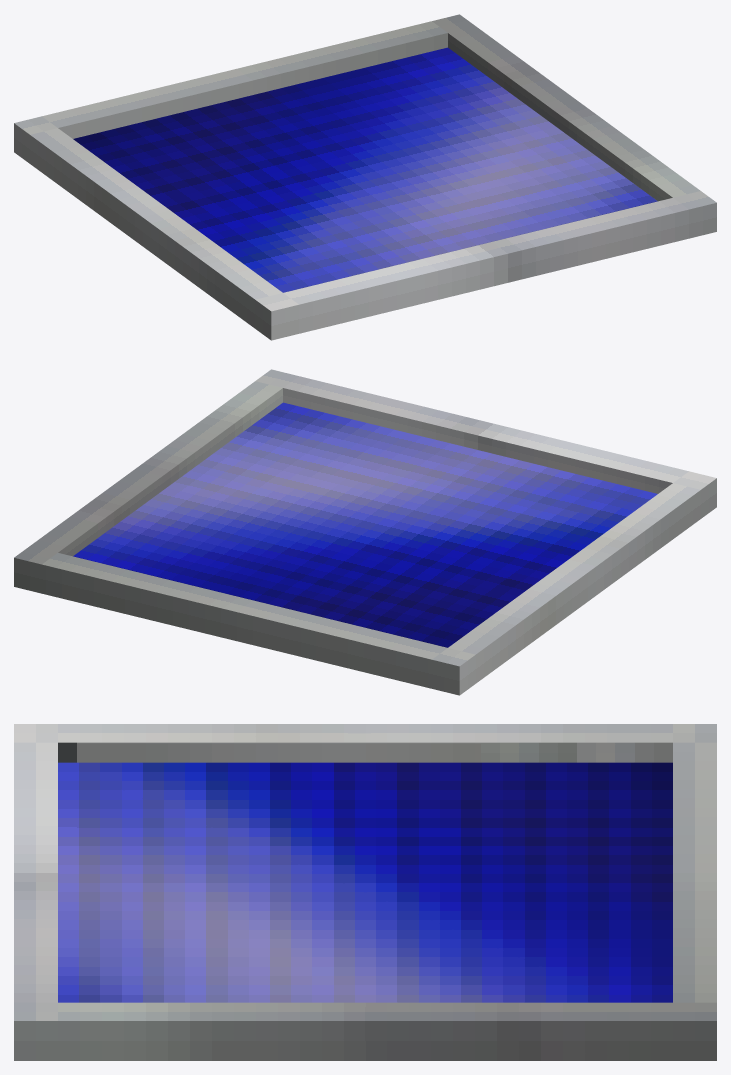
The model's file is SolarPanel2x2.obj.
3 renders of one model, top to bottom at view 1: azimuth 30°, elevation 25°; view 2: azimuth 150°, elevation 25°; view 3: azimuth 270°, elevation 25°, orthographic. The views are drawn at different scales.
Parts seen in each view (by area): view 1: Cube; view 2: Cube; view 3: Cube.
Part boxes in pixels (x1,y1,x2,y2): Cube: [14, 14, 716, 340]; Cube: [14, 369, 716, 695]; Cube: [14, 724, 716, 1060].
Size of the model in its own units: 2 by 0.125 by 2.
1 material, 1 textured.
